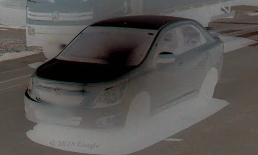car: (25, 16, 223, 126)
